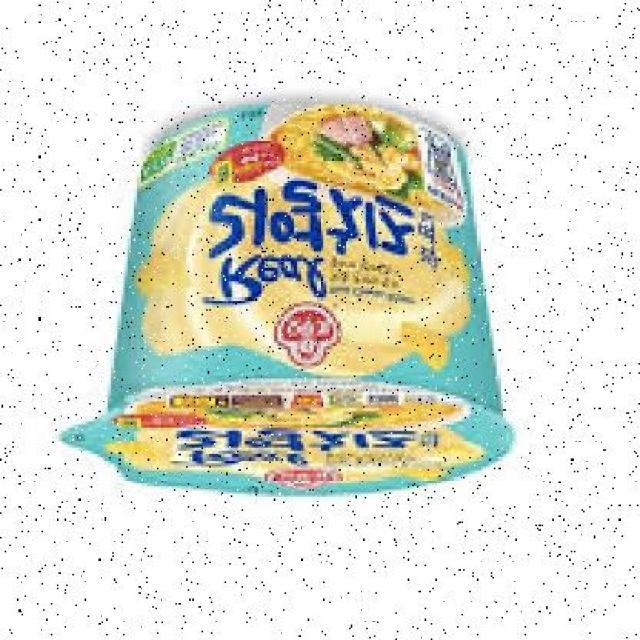Miscellaneous: (59, 74, 538, 534)
